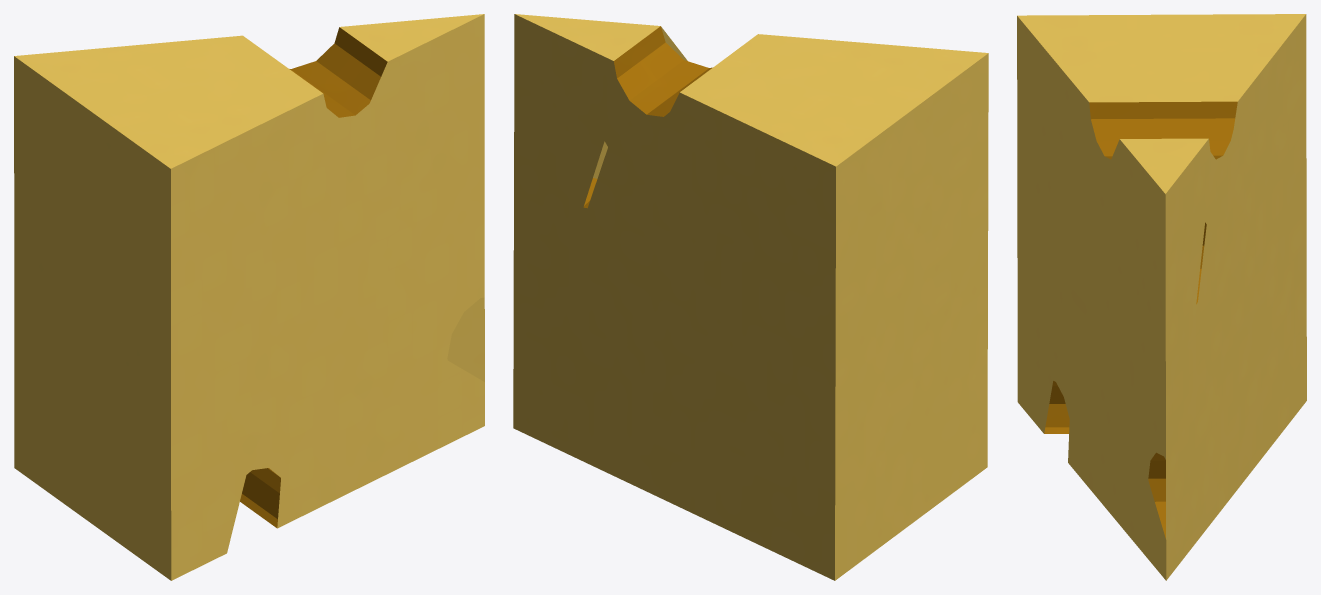
The model's file is MilkCut.fbx.
The picture shows the model from 3 angles, left to right: view 1: azimuth 30°, elevation 25°; view 2: azimuth 150°, elevation 25°; view 3: azimuth 270°, elevation 25°; orthographic projection. The views are drawn at different scales.
Parts seen in each view (by area): view 1: Cheese; view 2: Cheese; view 3: Cheese.
Part boxes in pixels (box(x1,y1,x2,y2)): Cheese: box(14, 14, 484, 580); Cheese: box(513, 14, 988, 580); Cheese: box(1017, 14, 1306, 580).
Bounding box in the file's own units: 3.94 × 3.94 × 2.67.
